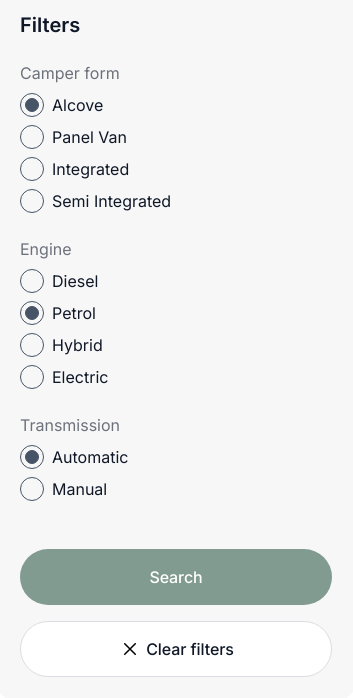
it: clears the form without applying filters
(page scrolled)
Click the button "Clear filters". click: (176, 649)
box: [20,621,332,677]
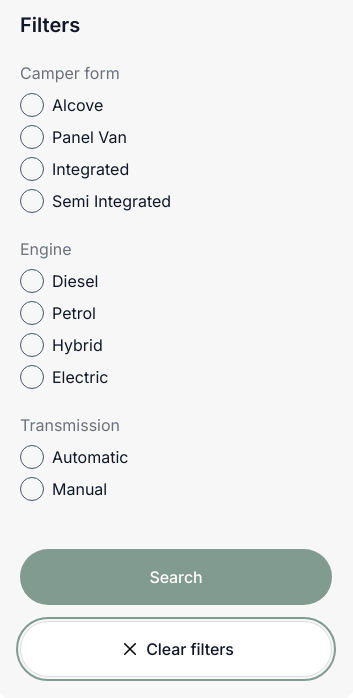
Result: the radio button labelled "Alcove" is not checked at [20,93,44,117]
Result: the radio button labelled "Petrol" is not checked at [20,301,44,325]
Result: the radio button labelled "Automatic" is not checked at [20,445,44,469]
